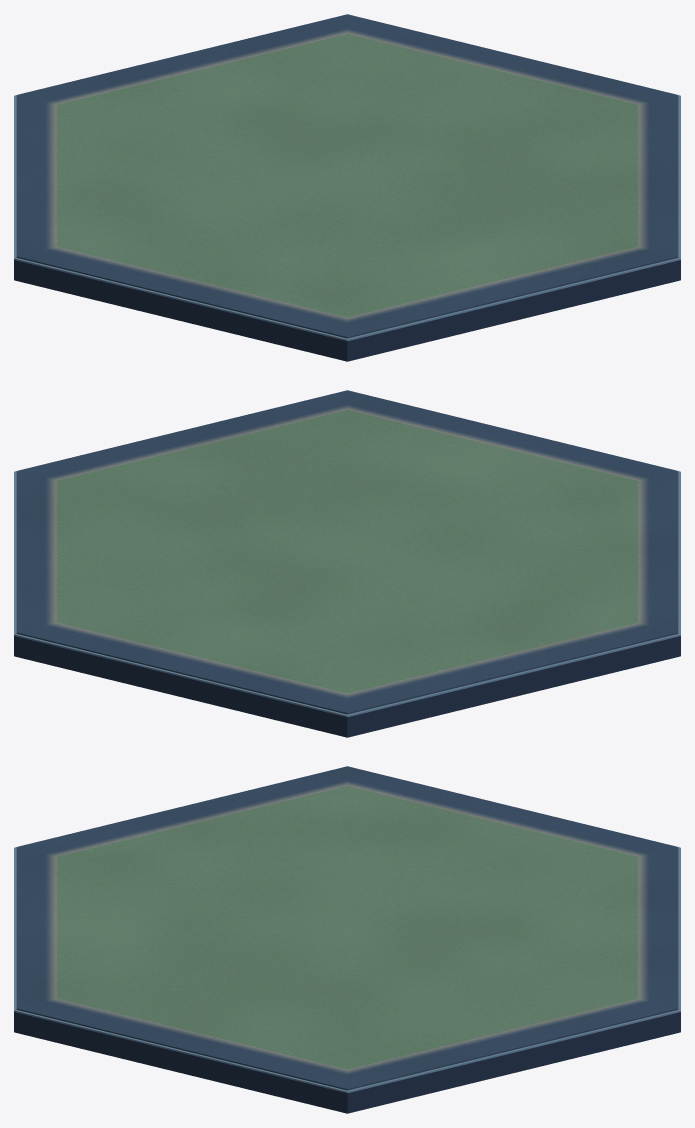
File: campus_tile_park_v01.glb
3 renders of one model, top to bottom at view 1: azimuth 30°, elevation 25°; view 2: azimuth 150°, elevation 25°; view 3: azimuth 270°, elevation 25°, orthographic.
Visible parts, largest first — view 1: campus_tile_park; view 2: campus_tile_park; view 3: campus_tile_park.
Part boxes in pixels (left/top/right/bottom): campus_tile_park: left=14, top=14, right=680, bottom=361; campus_tile_park: left=14, top=390, right=680, bottom=737; campus_tile_park: left=14, top=766, right=680, bottom=1113.
Size of the model in its own units: 36 by 1.2 by 31.18.
Materials: 1 (1 with a texture image).
